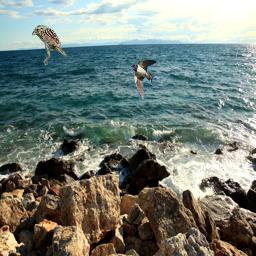Sparrow: (32, 25, 67, 65)
Swallow: (131, 60, 166, 100)
